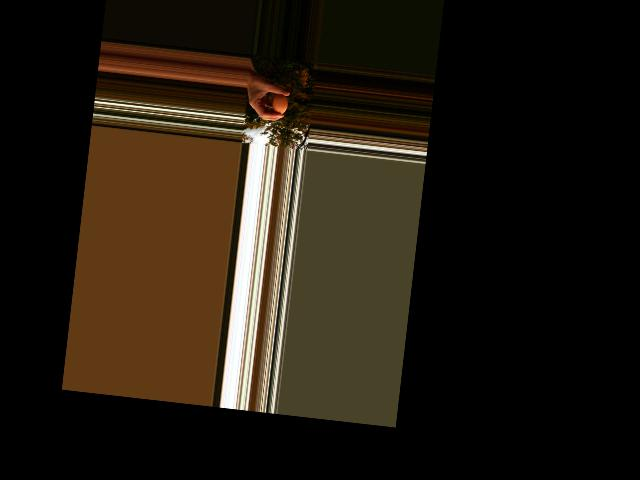egg: (271, 93, 288, 115)
